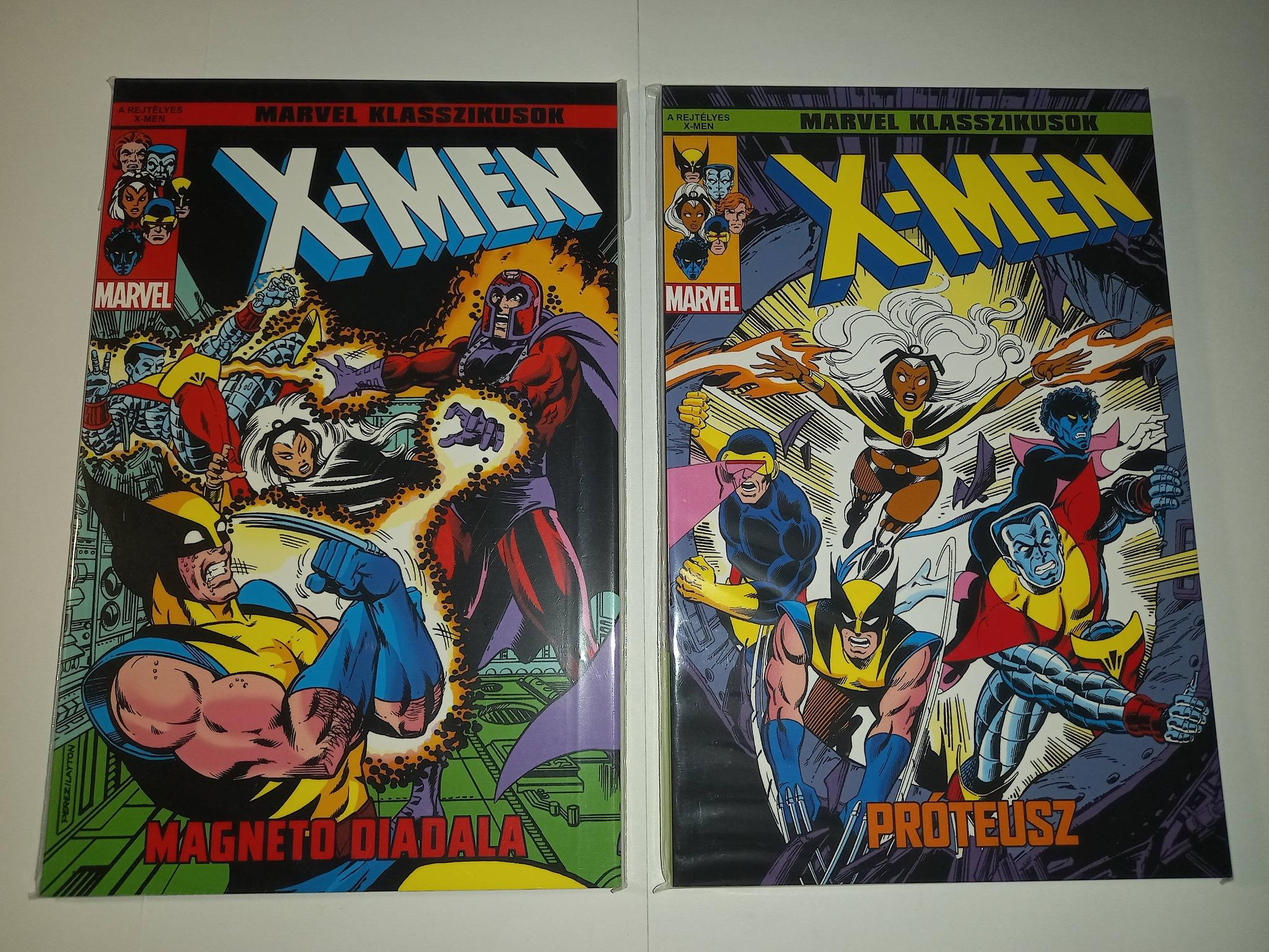comic: (40, 80, 621, 896), (657, 81, 1230, 885)
